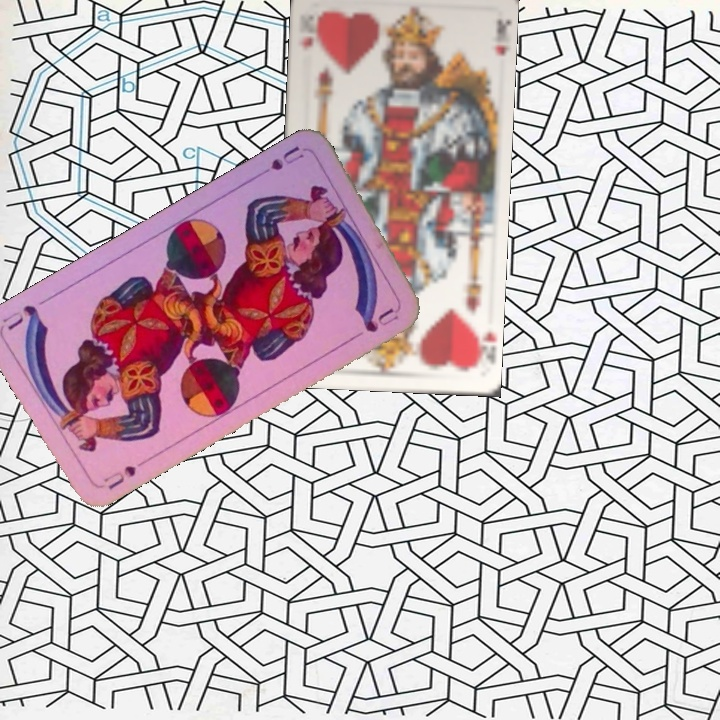HK: (466, 325, 495, 369), (295, 12, 324, 54)
SU: (252, 142, 307, 181), (99, 455, 151, 492)
